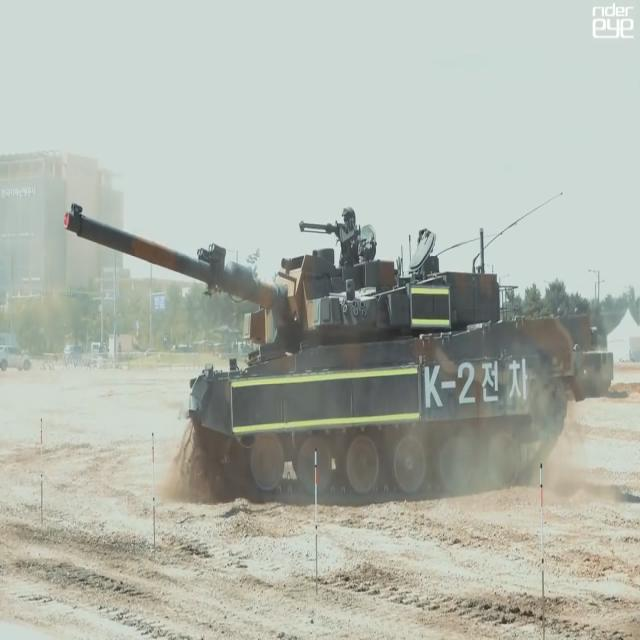korea tank: (64, 202, 597, 498)
